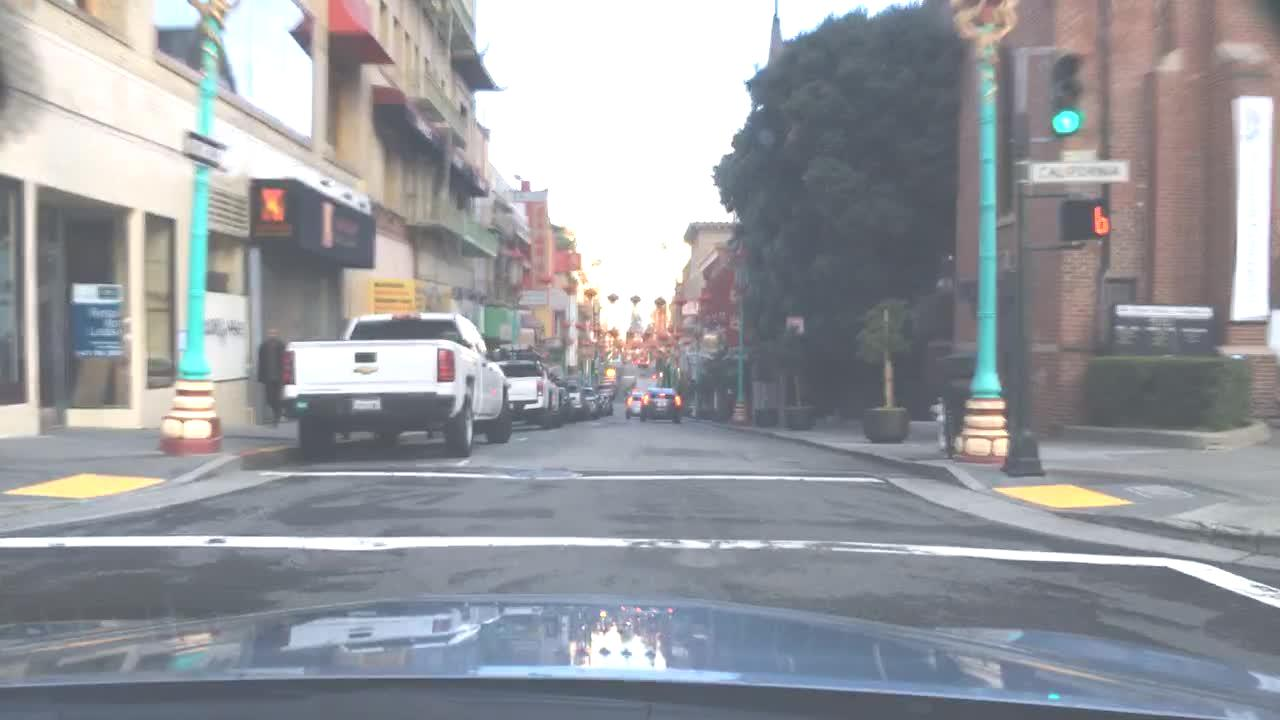chevrolet: (345, 360, 393, 379)
